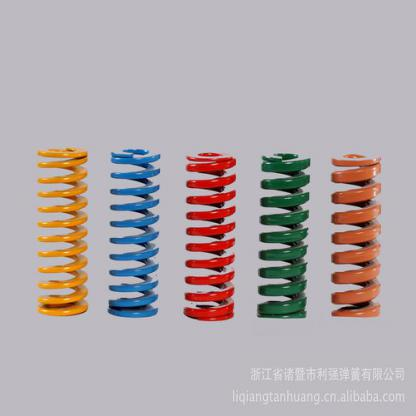FOD: (32, 142, 92, 320), (254, 147, 314, 324), (182, 147, 241, 326), (105, 143, 163, 322), (328, 150, 386, 320)
